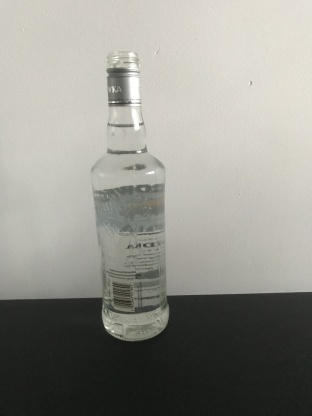nakretka: (104, 50, 142, 107)
